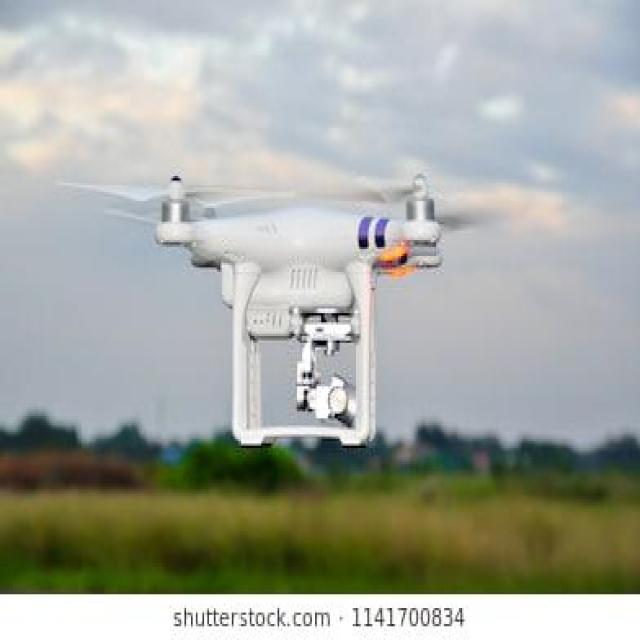drone: (40, 132, 540, 476)
